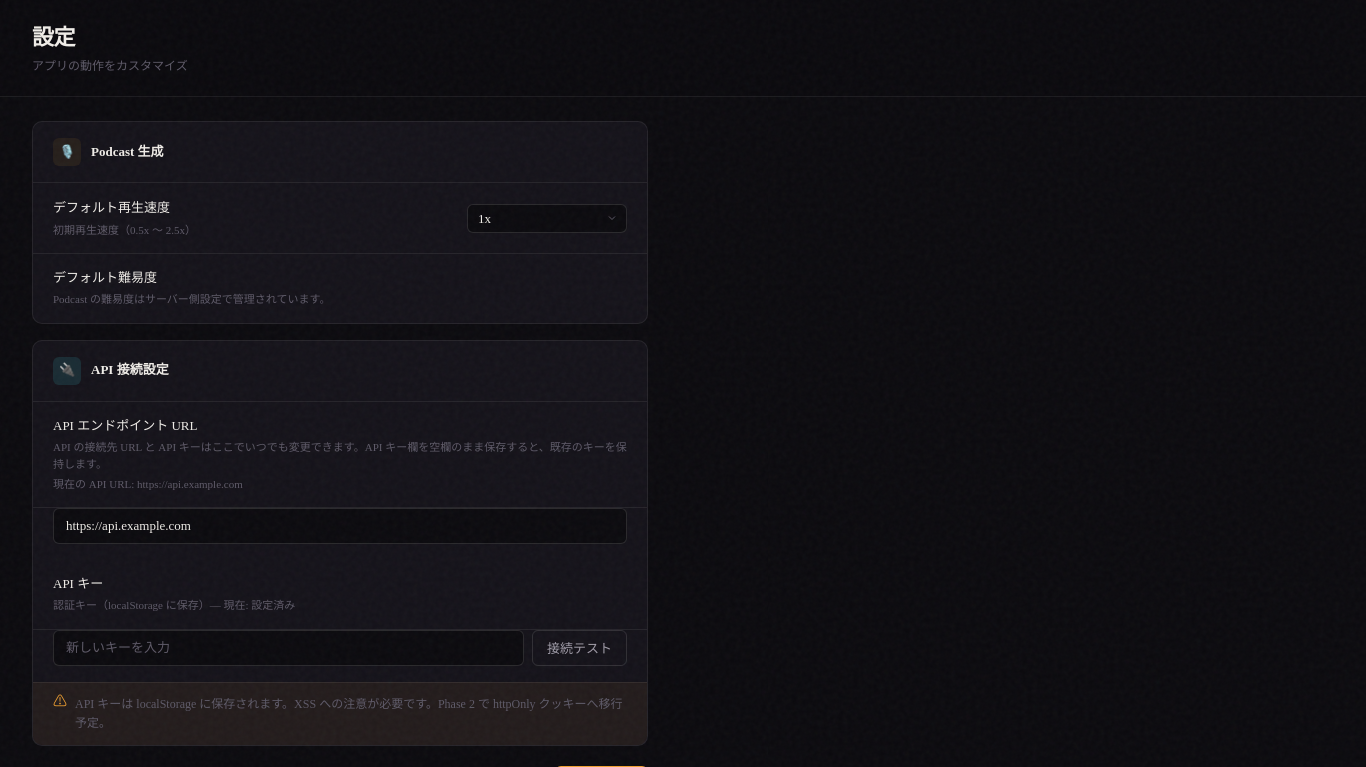
Test: SettingsPage — connection test › Given connection test fails, shows failure indicator
The image size is (1366, 767).
Click the button "接続テスト": (580, 648) x1=532 y1=630 x2=627 y2=666
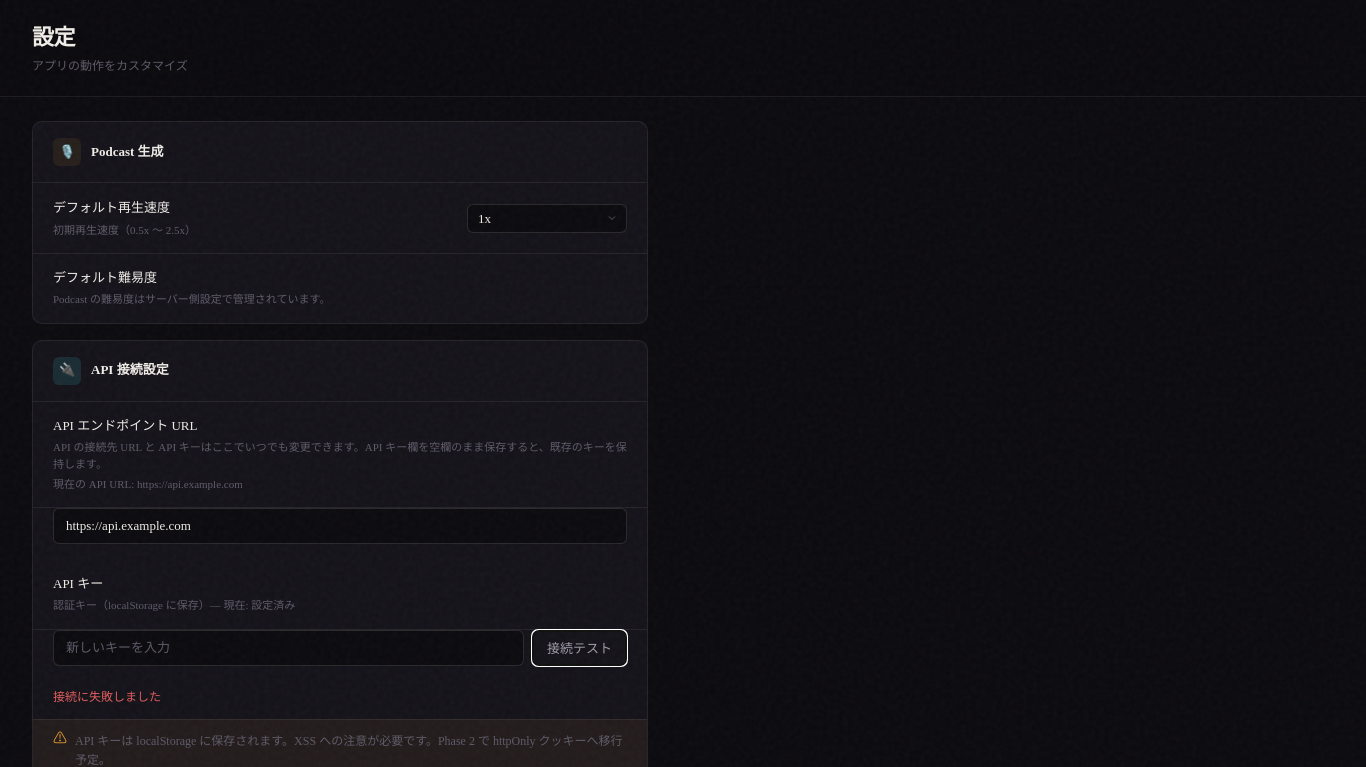
Expected: the text "接続に失敗しました" is shown, x1=53 y1=690 x2=161 y2=704
